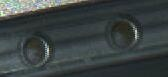joints: (105, 14, 142, 52), (19, 30, 53, 68)
